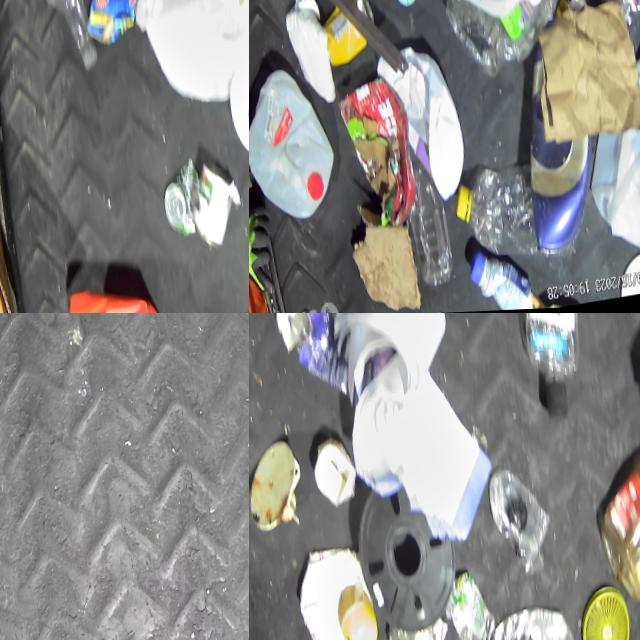can: (185, 154, 245, 253), (318, 0, 379, 69), (441, 569, 497, 640), (158, 160, 196, 240), (385, 602, 454, 640)
milk_jug: (374, 36, 472, 213), (249, 60, 341, 229), (572, 45, 640, 262), (128, 0, 249, 119), (321, 313, 455, 412)
non_white_jug: (510, 40, 604, 261), (590, 442, 640, 616)
plastic_bottle: (509, 313, 598, 435), (448, 162, 539, 273), (484, 461, 556, 588), (9, 0, 101, 78), (402, 161, 454, 294)
